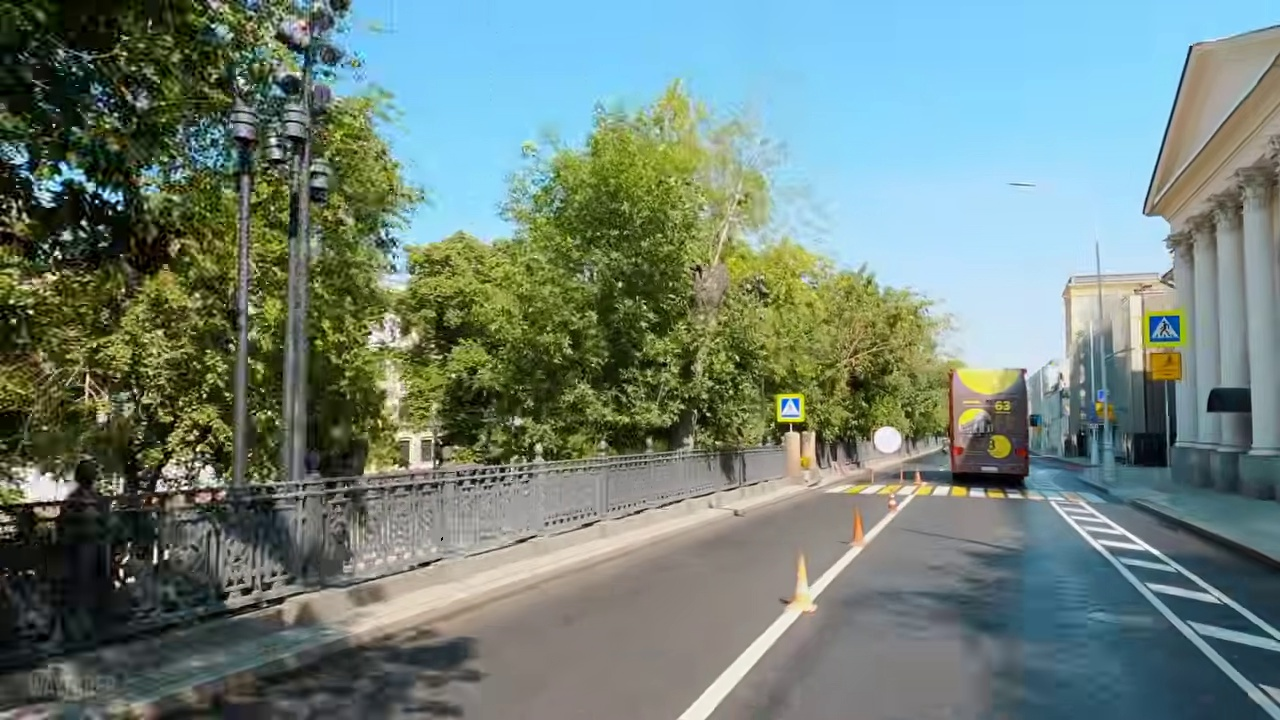apagada: (988, 173, 1038, 201)
